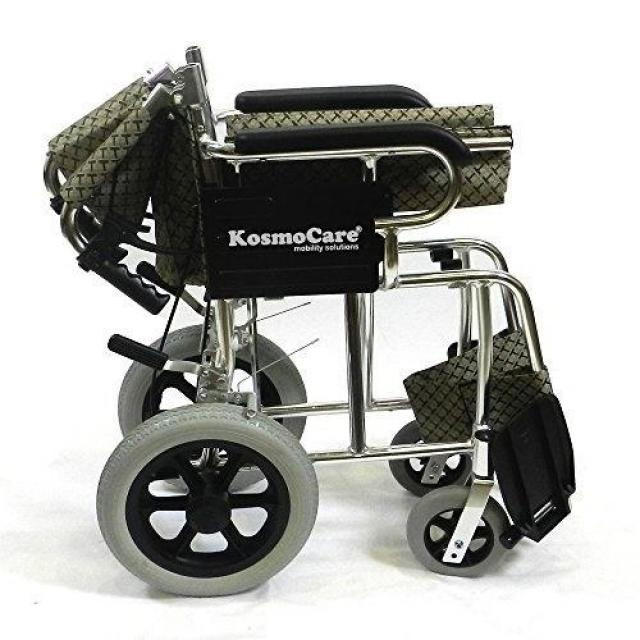wheelchair: (37, 40, 582, 603)
